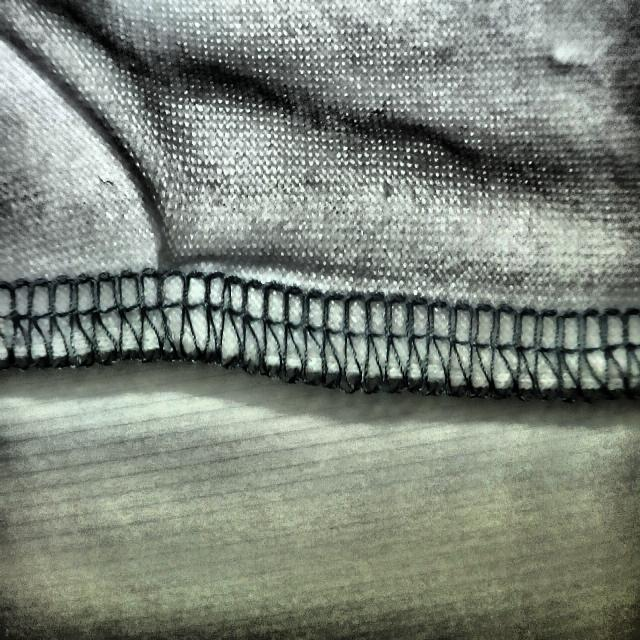seam: (100, 133, 306, 419)
